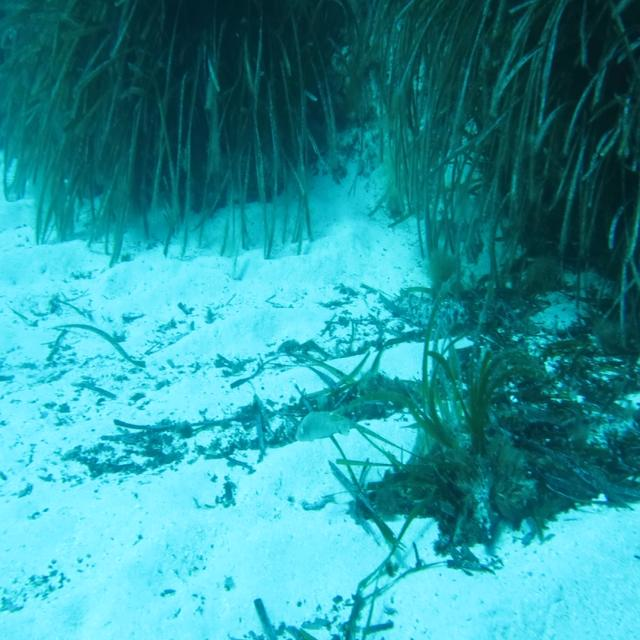BN: (294, 410, 350, 442)
vegetation: (327, 0, 639, 175), (0, 0, 293, 172), (412, 366, 590, 510), (392, 178, 640, 266), (610, 503, 640, 640), (312, 378, 411, 411)
